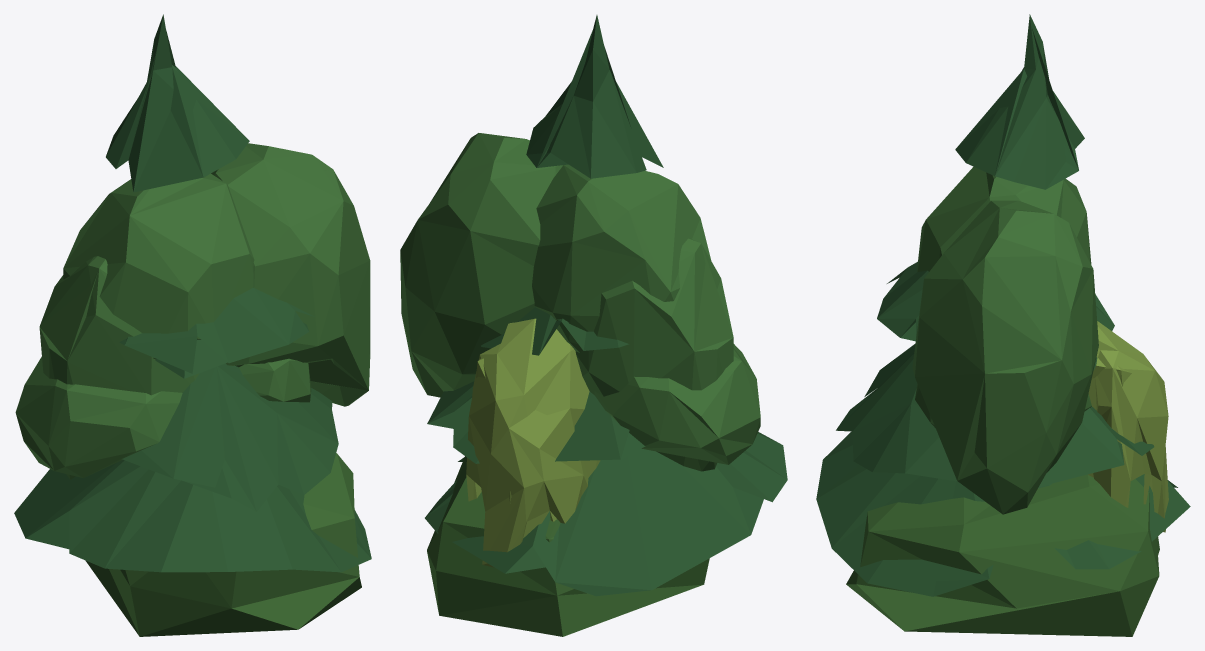
Rendered from trees.glb.
3 renders of one model, left to right at view 1: azimuth 30°, elevation 25°; view 2: azimuth 150°, elevation 25°; view 3: azimuth 270°, elevation 25°, orthographic. The views are drawn at different scales.
Visible parts, largest first — view 1: pine, oakA, oakB, bush, pineFar, oakBFar; view 2: pine, oakB, oakA, willow, bush, pineFar, oakBFar, willowFar; view 3: oakB, bush, pine, willow, oakA, pineFar, oakBFar, willowFar.
Part boxes in pixels (<box>): pine: <box>14,14,371,572</box>; oakA: <box>15,173,311,477</box>; oakB: <box>39,143,370,479</box>; bush: <box>85,453,361,636</box>; pineFar: <box>25,49,371,558</box>; oakBFar: <box>40,170,370,393</box>; pine: <box>425,15,787,596</box>; oakB: <box>400,133,733,471</box>; oakA: <box>532,164,760,464</box>; willow: <box>466,318,600,567</box>; bush: <box>427,456,709,636</box>; pineFar: <box>428,28,763,573</box>; oakBFar: <box>634,244,733,351</box>; willowFar: <box>476,358,549,537</box>; oakB: <box>912,200,1098,514</box>; bush: <box>846,474,1159,636</box>; pine: <box>816,14,1190,596</box>; willow: <box>1093,321,1168,532</box>; oakA: <box>915,166,1091,427</box>; pineFar: <box>868,29,1124,583</box>; oakBFar: <box>915,252,985,480</box>; willowFar: <box>1088,358,1152,492</box>.
Size of the model in its own units: 2.28 by 3.9 by 2.27.
